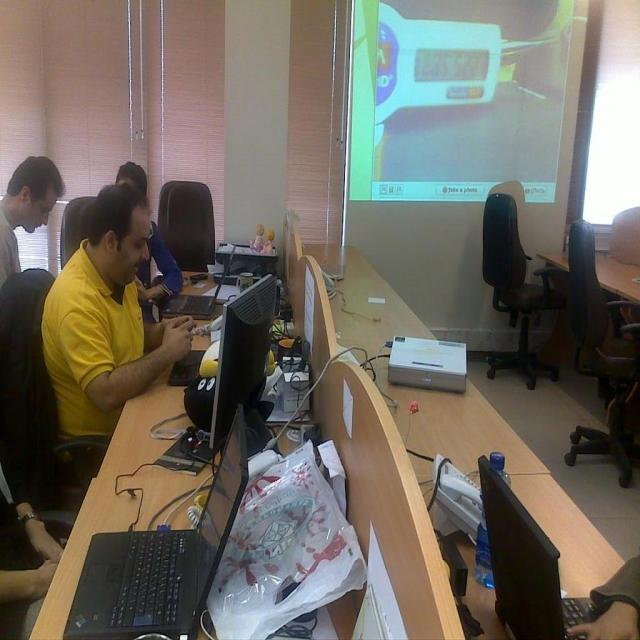chair: (0, 270, 109, 536), (565, 219, 640, 487), (481, 182, 563, 390), (158, 180, 220, 276), (61, 196, 97, 266)
desk: (302, 243, 639, 639)
laptop: (61, 405, 252, 640), (478, 461, 625, 640)
person: (41, 187, 194, 441), (114, 161, 185, 306), (0, 155, 66, 293), (563, 553, 640, 639)
tv: (343, 0, 593, 228), (207, 273, 280, 452)
